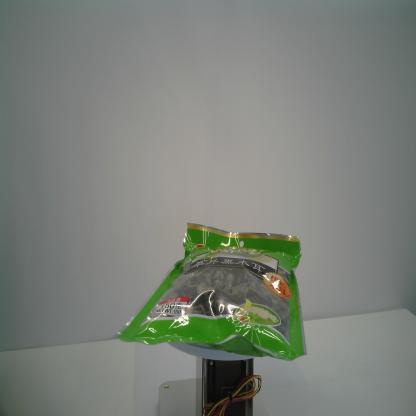Dried Food: (107, 218, 309, 364)
